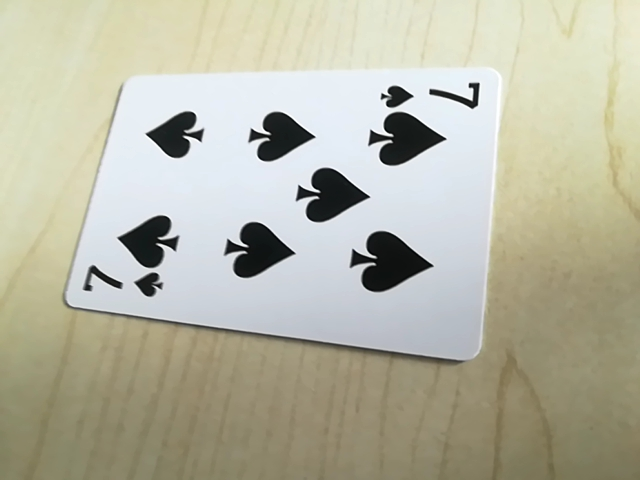ht 7: (374, 74, 487, 111), (74, 265, 173, 305)
